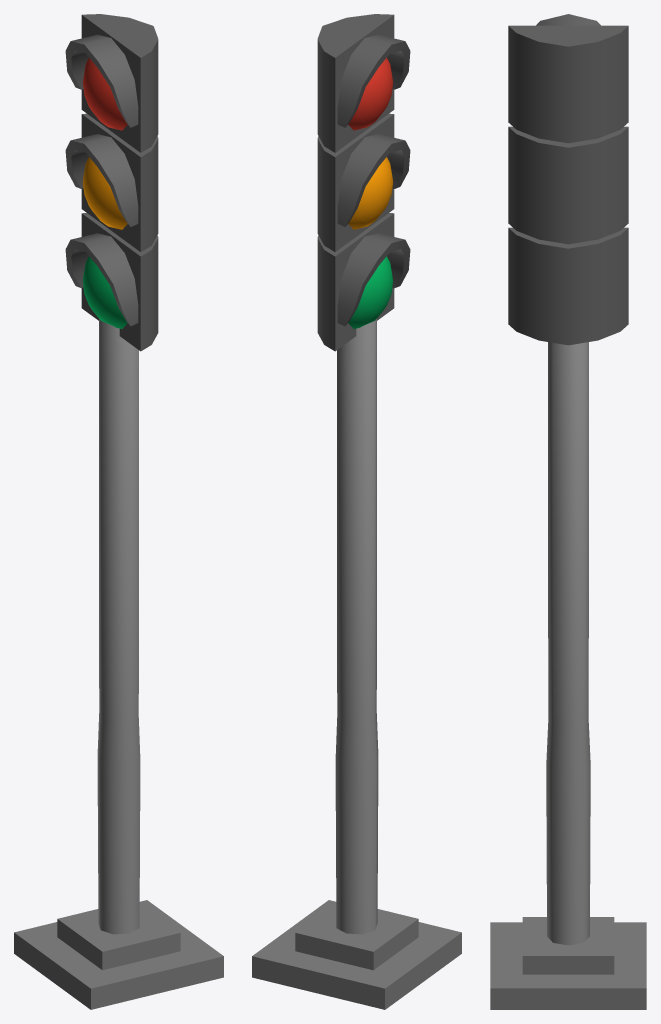
The model's file is Trafficlight.fbx.
The picture shows the model from 3 angles, left to right: view 1: azimuth 30°, elevation 25°; view 2: azimuth 150°, elevation 25°; view 3: azimuth 270°, elevation 25°; orthographic projection.
Visible parts, largest first — view 1: Cube_002_001; view 2: Cube_002_001; view 3: Cube_002_001.
Part boxes in pixels (bbox=[...]): Cube_002_001: bbox=[14, 14, 223, 1009]; Cube_002_001: bbox=[252, 14, 461, 1009]; Cube_002_001: bbox=[490, 14, 646, 1009].
Bounding box in the file's own units: 1303 × 8709 × 1303.
